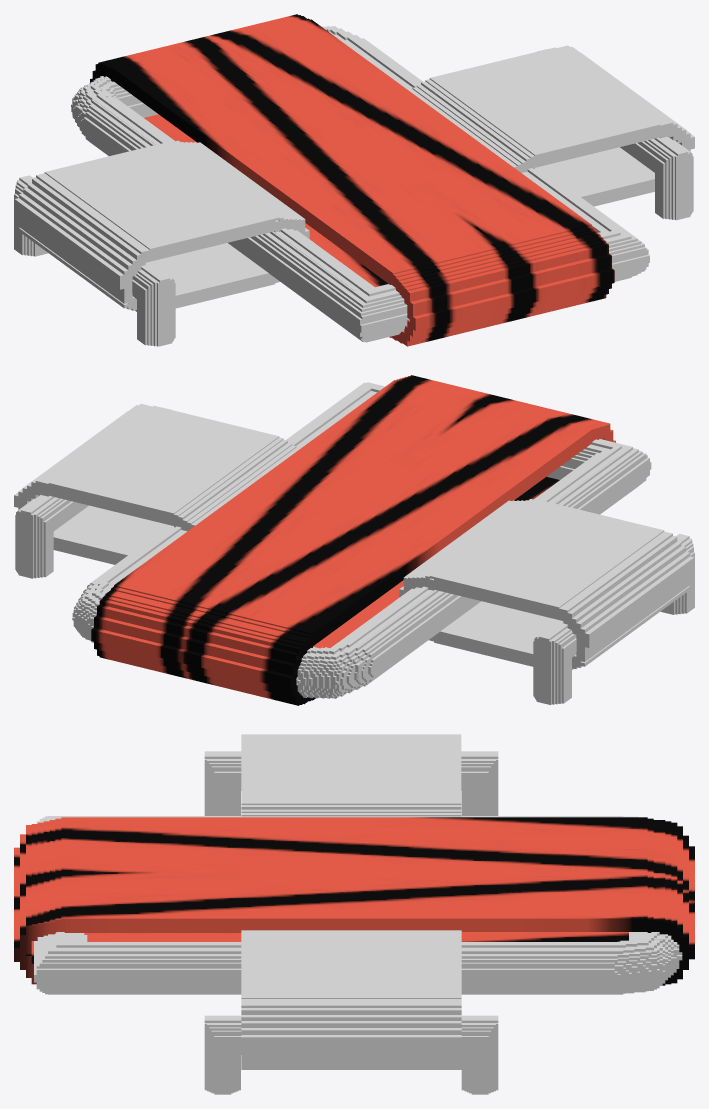
File: conveyor.fbx
3 renders of one model, top to bottom at view 1: azimuth 30°, elevation 25°; view 2: azimuth 150°, elevation 25°; view 3: azimuth 270°, elevation 25°, orthographic. The views are drawn at different scales.
Visible parts, largest first — view 1: Cube, Cube.002, Elbow Joint, Cube.001, Cylinder.003; view 2: Cube, Cube.002, Elbow Joint, Cube.001, Cylinder.003; view 3: Cube, Elbow Joint, Cube.001, Cube.002.
Part boxes in pixels (x1=…): Cube: x1=90, y1=14, x2=614, y2=346; Cube.002: x1=14, y1=140, x2=312, y2=311; Elbow Joint: x1=14, y1=26, x2=693, y2=346; Cube.001: x1=408, y1=45, x2=694, y2=206; Cylinder.003: x1=76, y1=92, x2=368, y2=290; Cube: x1=91, y1=375, x2=615, y2=705; Cube.002: x1=395, y1=499, x2=694, y2=669; Elbow Joint: x1=15, y1=382, x2=694, y2=704; Cube.001: x1=14, y1=403, x2=300, y2=564; Cylinder.003: x1=339, y1=452, x2=617, y2=680; Cube: x1=14, y1=817, x2=694, y2=985; Elbow Joint: x1=34, y1=751, x2=682, y2=1094; Cube.001: x1=241, y1=930, x2=461, y2=1069; Cube.002: x1=241, y1=734, x2=461, y2=817.
Size of the model in its own units: 2241 by 309 by 2200.
